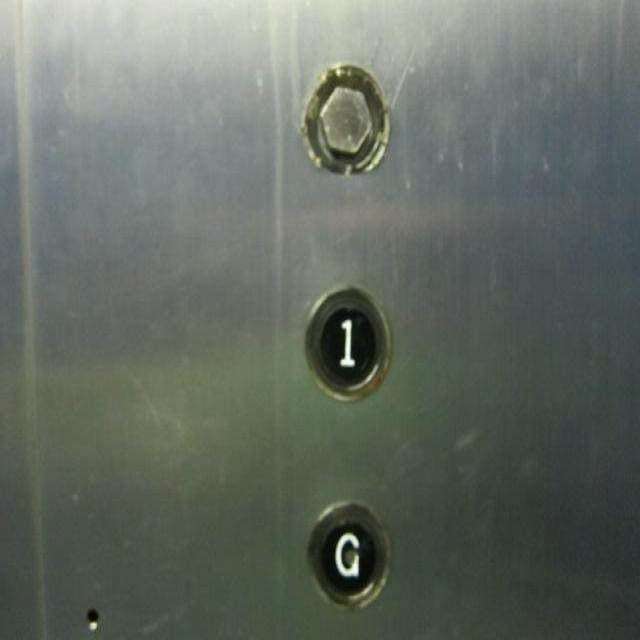1: (299, 277, 393, 407)
G: (304, 495, 391, 612)
unknown: (302, 60, 389, 177)
